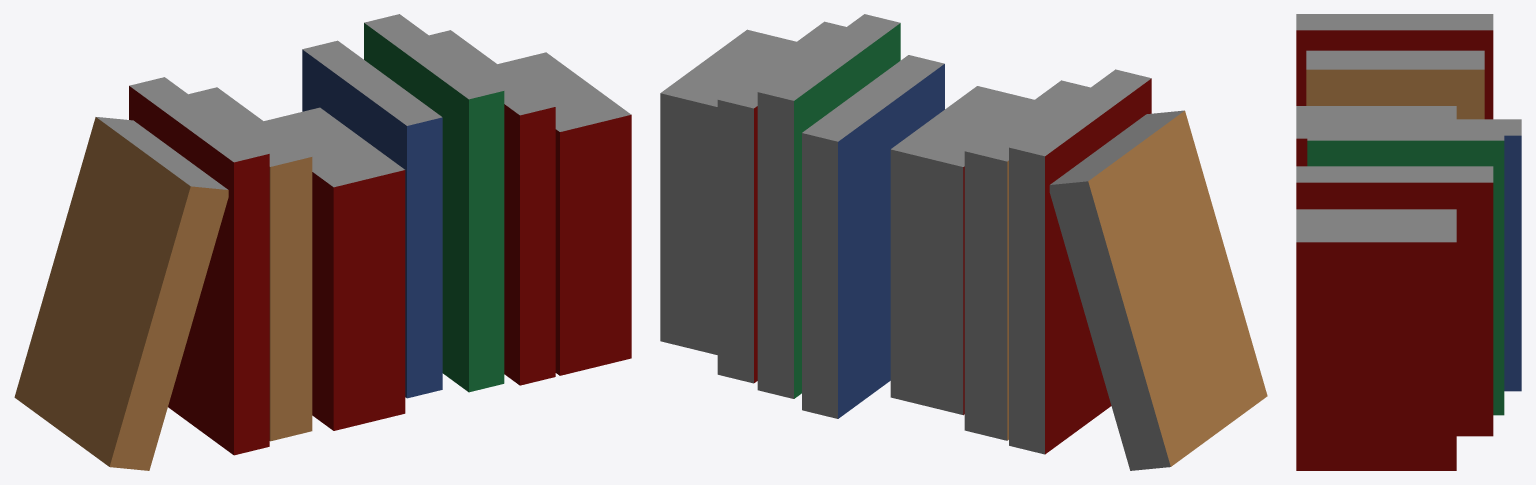
Rendered from Books01.glb.
The picture shows the model from 3 angles, left to right: view 1: azimuth 30°, elevation 25°; view 2: azimuth 150°, elevation 25°; view 3: azimuth 270°, elevation 25°; orthographic projection. The views are drawn at different scales.
Parts seen in each view (by area): view 1: Books01; view 2: Books01; view 3: Books01.
Boxes of the visible parts, x1=… form: Books01: x1=14, y1=14, x2=631, y2=470; Books01: x1=660, y1=14, x2=1267, y2=470; Books01: x1=1296, y1=14, x2=1521, y2=470.
Size of the model in its own units: 0.541 by 0.2932 by 0.2175.
